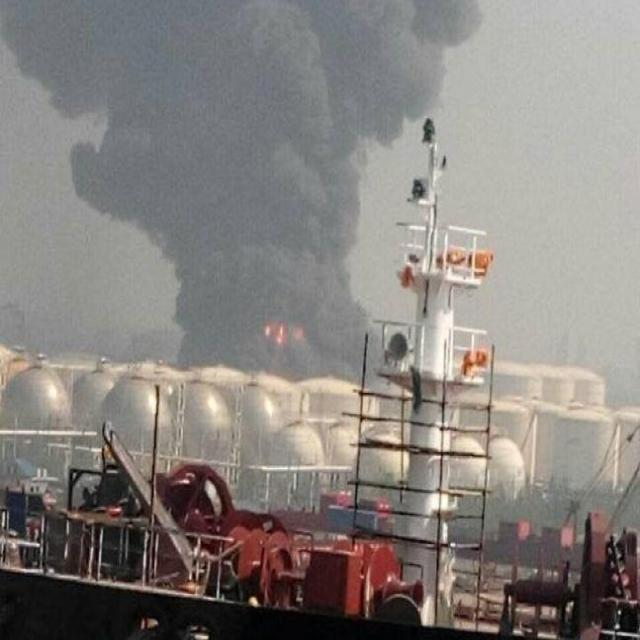Fire: (260, 314, 304, 348)
Smoke: (0, 0, 482, 378)
